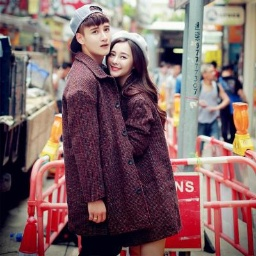face: (71, 8, 112, 58), (109, 35, 146, 83)
